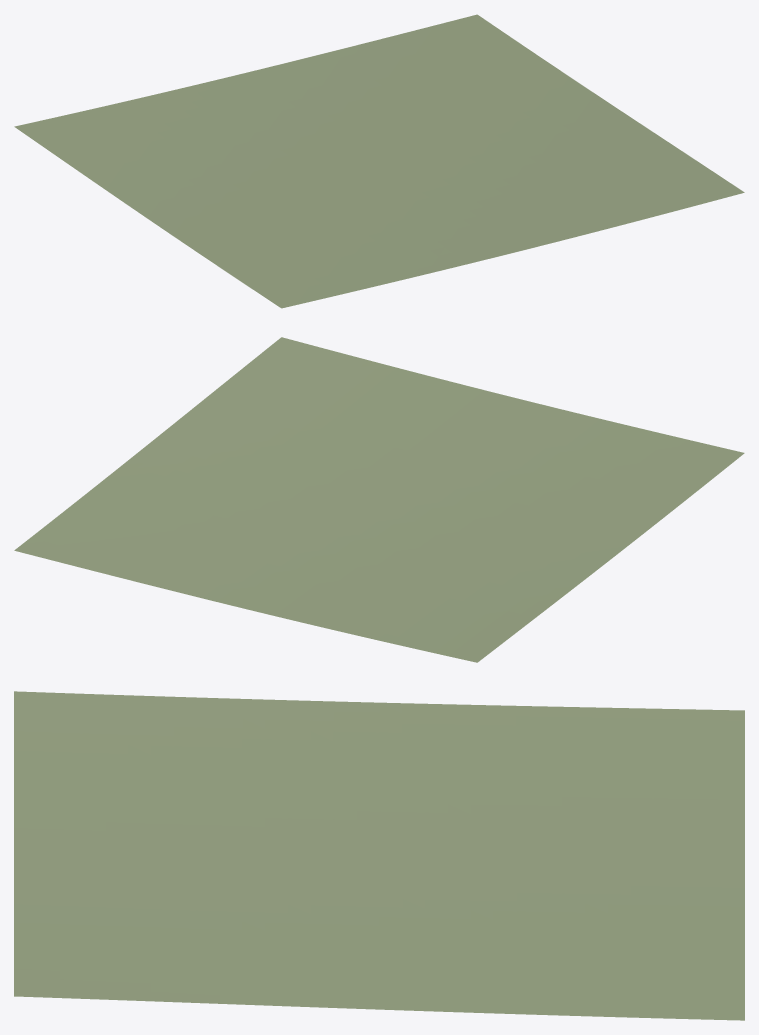
Rendered from expanse-3-11.glb.
The picture shows the model from 3 angles, top to bottom: view 1: azimuth 30°, elevation 25°; view 2: azimuth 150°, elevation 25°; view 3: azimuth 270°, elevation 25°; orthographic projection. The views are drawn at different scales.
Visible parts, largest first — view 1: expanse-3-11; view 2: expanse-3-11; view 3: expanse-3-11.
Boxes of the visible parts, x1,y1,x2,y2 form: expanse-3-11: [14, 14, 744, 308]; expanse-3-11: [14, 337, 744, 662]; expanse-3-11: [14, 691, 744, 1020].
Size of the model in its own units: 256 by 10.31 by 256.
